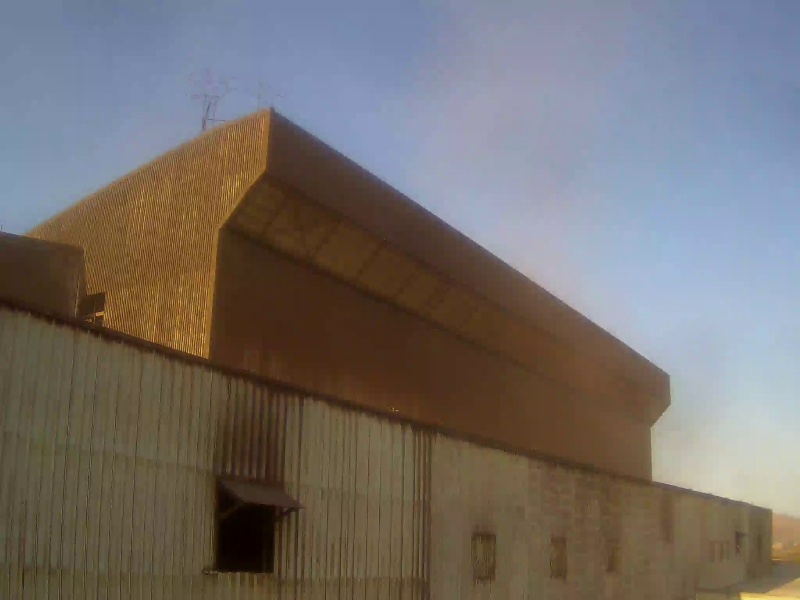pessimo: (268, 117, 705, 496)
